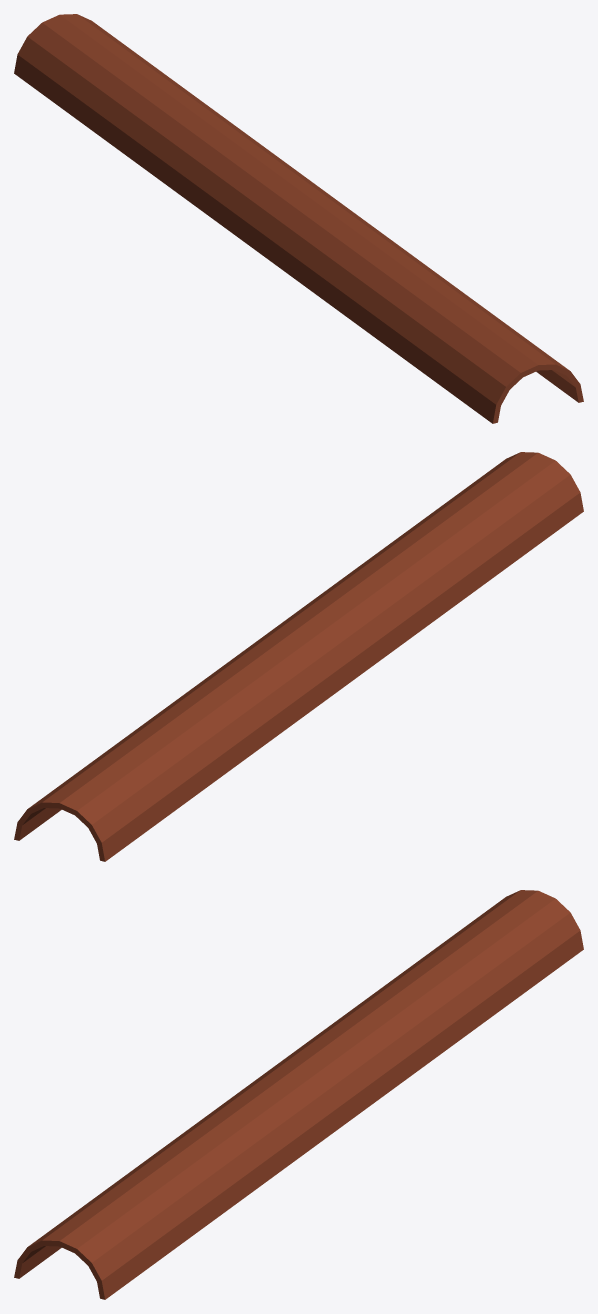
File: MH_Roof_Ridge_Nok4m.fbx
The picture shows the model from 3 angles, top to bottom: view 1: azimuth 30°, elevation 25°; view 2: azimuth 150°, elevation 25°; view 3: azimuth 330°, elevation 25°; orthographic projection.
Parts seen in each view (by area): view 1: Body; view 2: Body; view 3: Body.
Boxes of the visible parts, left/top/right/bottom form: Body: left=14, top=14, right=583, bottom=423; Body: left=14, top=452, right=583, bottom=861; Body: left=14, top=890, right=583, bottom=1299.
Size of the model in its own units: 0.44 by 0.22 by 4.
